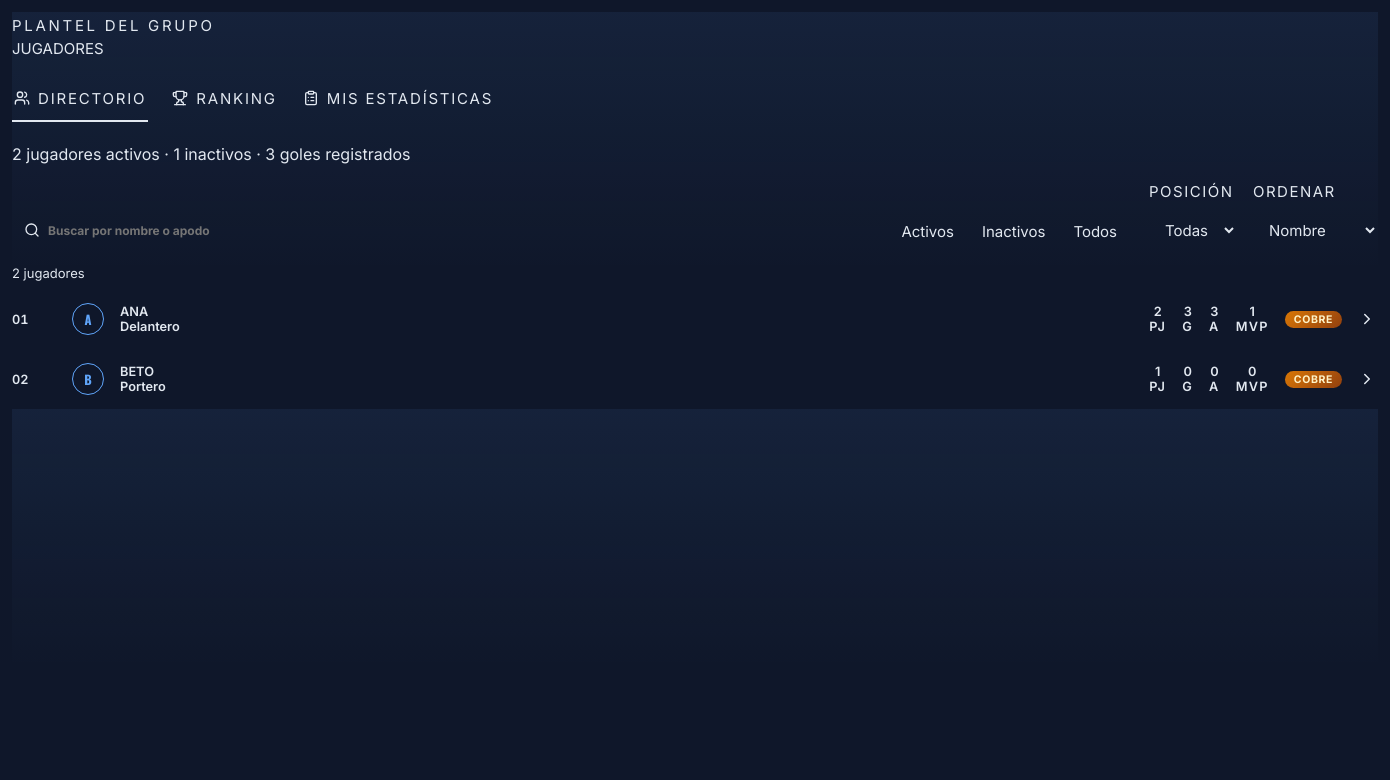
Test case: PlayersPage › a player viewing another player sees no phone, fines or admin actions
Click the button "02 B Beto Portero 1 PJ 0 G 0 A 0 MVP Cobre": (88, 379) [12,349,1378,409]
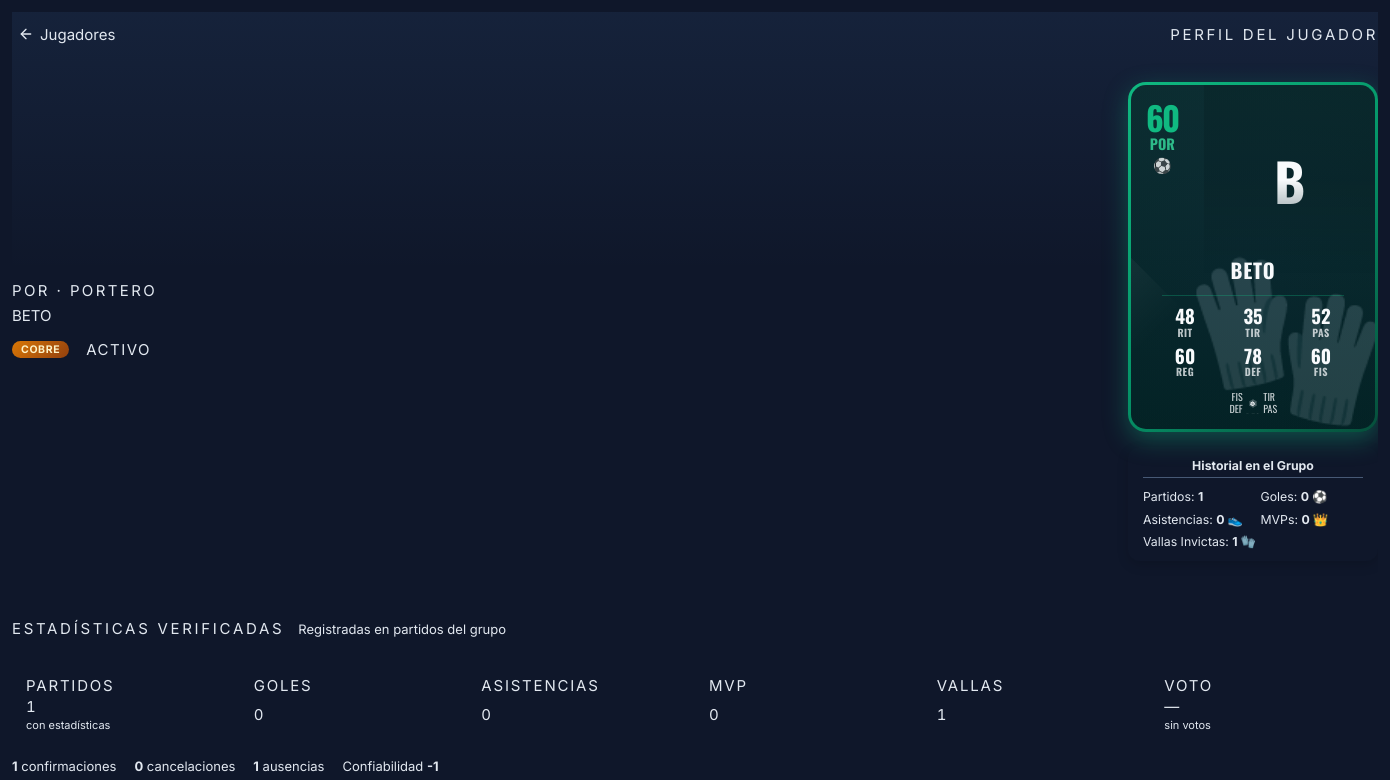
Check: the heading "Estadísticas verificadas" is shown, box [12,618,284,638]
